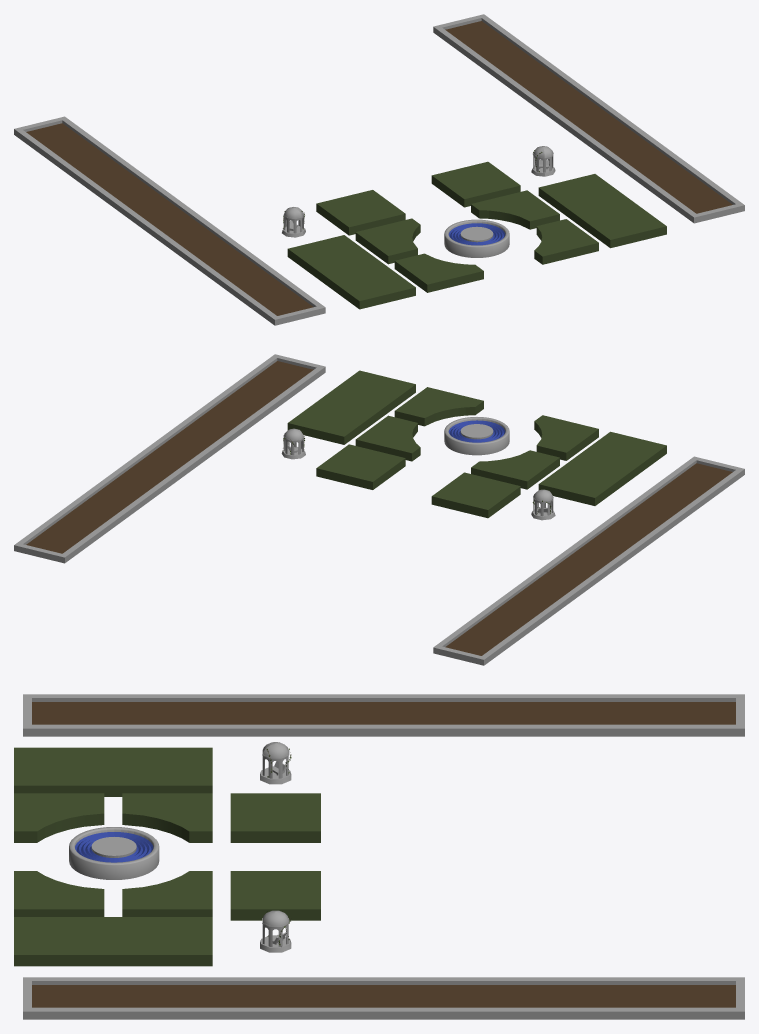
File: decorations.obj
3 renders of one model, top to bottom at view 1: azimuth 30°, elevation 25°; view 2: azimuth 150°, elevation 25°; view 3: azimuth 270°, elevation 25°, orthographic. The views are drawn at different scales.
Parts seen in each view (by area): view 1: 紅魔館_mesh_紅魔館; view 2: 紅魔館_mesh_紅魔館; view 3: 紅魔館_mesh_紅魔館.
Boxes of the visible parts, x1,y1,x2,y2 form: 紅魔館_mesh_紅魔館: (14, 14, 744, 325); 紅魔館_mesh_紅魔館: (14, 354, 744, 665); 紅魔館_mesh_紅魔館: (14, 694, 744, 1019).
Size of the model in its own units: 72.8 by 3.77 by 70.87.
